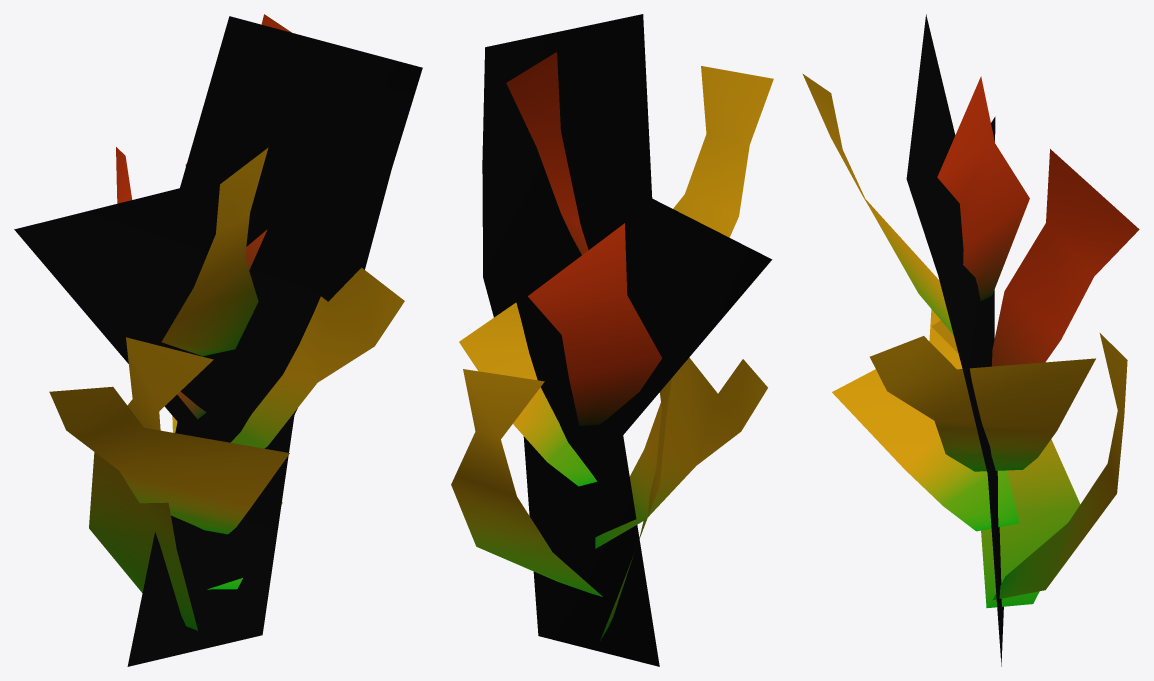
The model's file is Var4Hi17.fbx.
The picture shows the model from 3 angles, left to right: view 1: azimuth 30°, elevation 25°; view 2: azimuth 150°, elevation 25°; view 3: azimuth 270°, elevation 25°; orthographic projection. The views are drawn at different scales.
Parts seen in each view (by area): view 1: bend1; view 2: bend1; view 3: bend1.
Boxes of the visible parts, x1,y1,x2,y2 form: bend1: (14, 14, 422, 666); bend1: (451, 14, 773, 666); bend1: (802, 14, 1139, 666).
Size of the model in its own units: 1.31 by 2.3 by 1.14.
